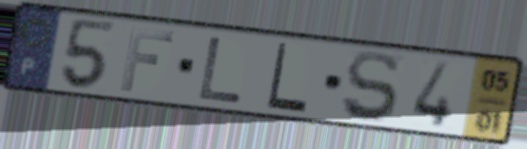4: (409, 58, 459, 131)
5: (58, 15, 118, 92)
F: (117, 25, 178, 94)
L: (194, 34, 246, 107), (264, 40, 311, 116)
S: (339, 49, 402, 125)
